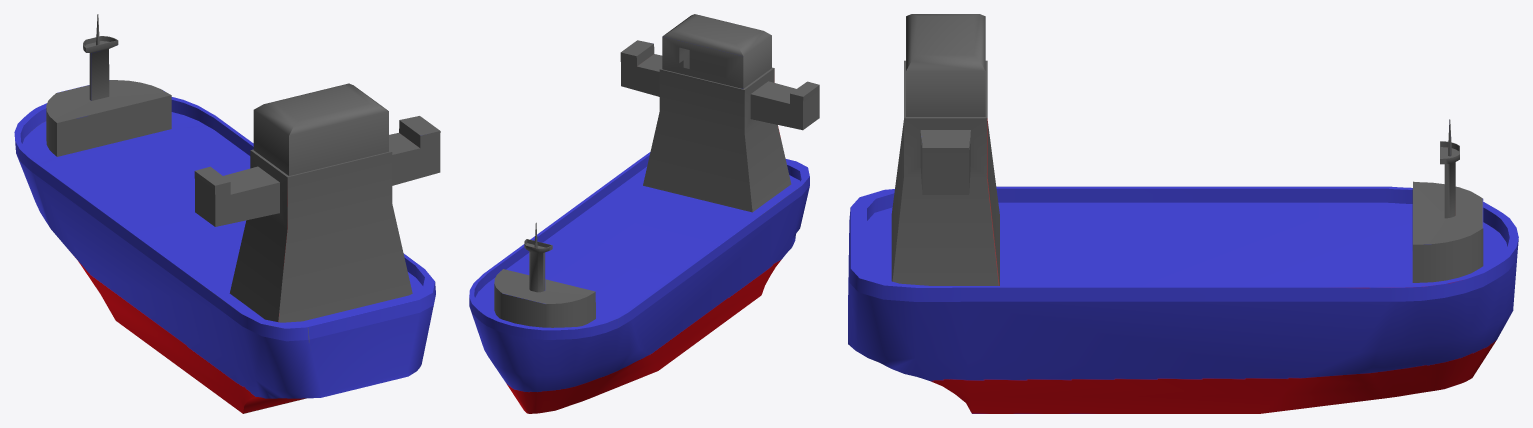
File: cargo.fbx
The picture shows the model from 3 angles, left to right: view 1: azimuth 30°, elevation 25°; view 2: azimuth 150°, elevation 25°; view 3: azimuth 270°, elevation 25°; orthographic projection. The views are drawn at different scales.
Visible parts, largest first — view 1: Cube; view 2: Cube; view 3: Cube.
Boxes of the visible parts, <box> form: Cube: <box>14,14,440,413</box>; Cube: <box>469,14,819,413</box>; Cube: <box>848,14,1518,413</box>.
Bounding box in the file's own units: 985 × 1266 × 2252.
Materials: 1 (1 with a texture image).
